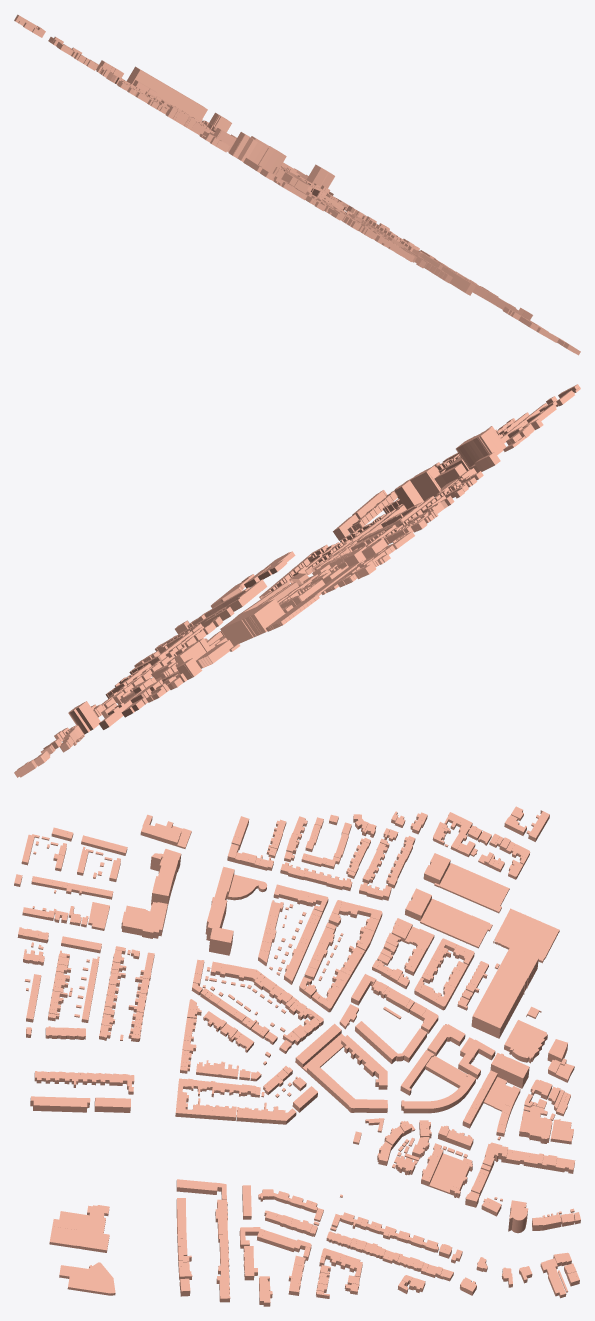
3 renders of one model, top to bottom at view 1: azimuth 30°, elevation 25°; view 2: azimuth 150°, elevation 25°; view 3: azimuth 270°, elevation 25°, orthographic. The views are drawn at different scales.
Bounding box in the file's own units: 514 × 390 × 637.
